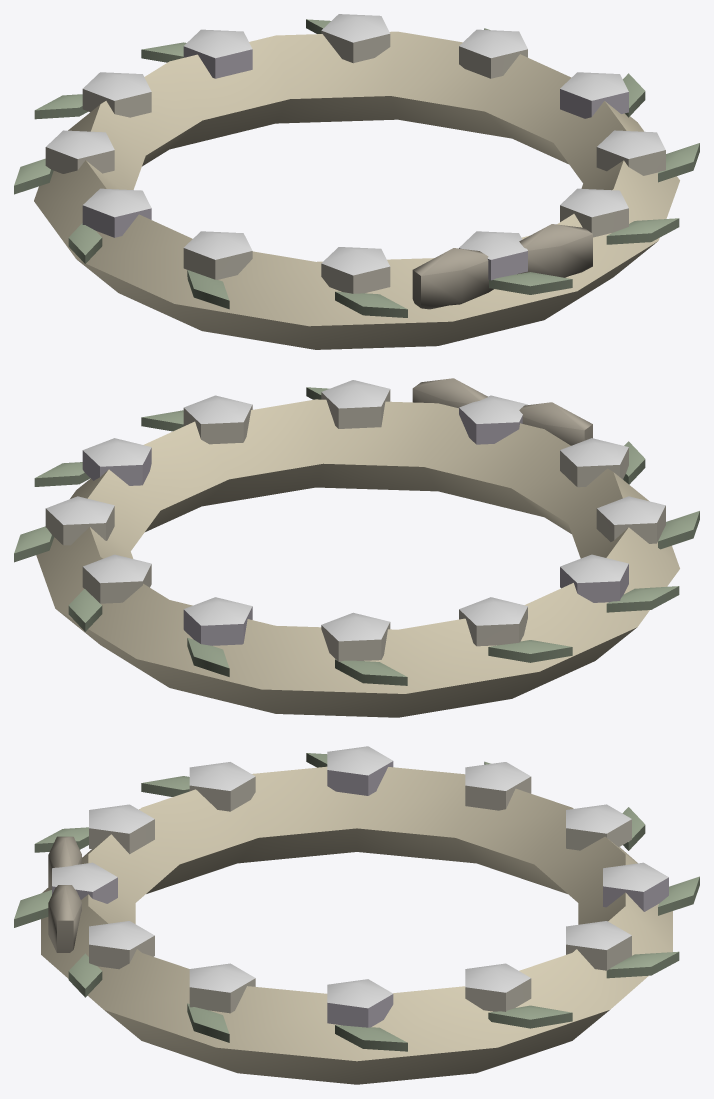
File: ph_prop_wax_wreath.glb
3 renders of one model, top to bottom at view 1: azimuth 30°, elevation 25°; view 2: azimuth 150°, elevation 25°; view 3: azimuth 270°, elevation 25°, orthographic.
Visible parts, largest first — view 1: ph_prop_wax_wreath; view 2: ph_prop_wax_wreath; view 3: ph_prop_wax_wreath.
Part boxes in pixels (bbox=[...]): ph_prop_wax_wreath: bbox=[14, 14, 699, 349]; ph_prop_wax_wreath: bbox=[14, 378, 699, 717]; ph_prop_wax_wreath: bbox=[14, 746, 699, 1084].
Bounding box in the file's own units: 0.4233 × 0.072 × 0.4233.
